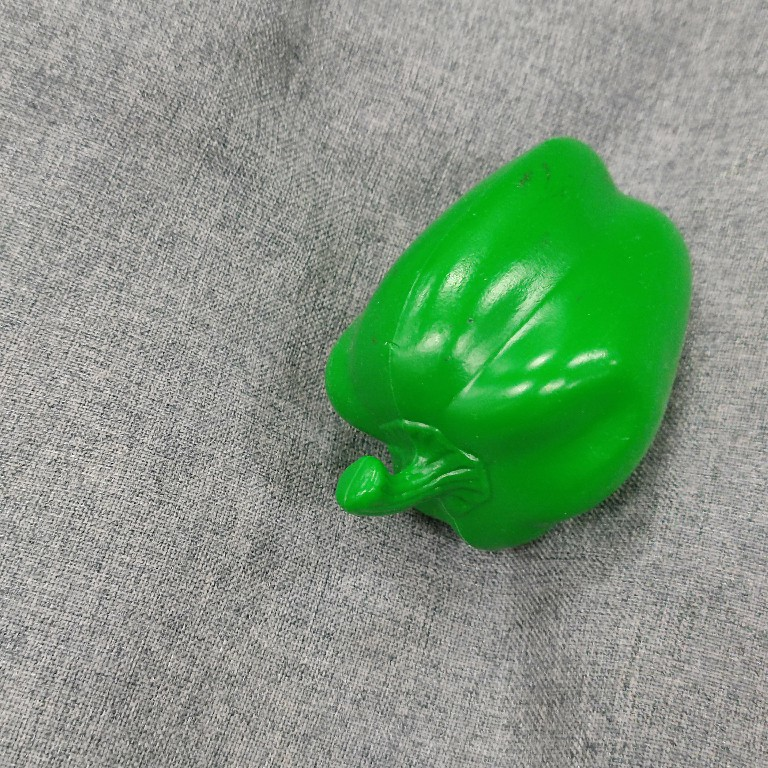fruit_pepper: (317, 132, 700, 558)
